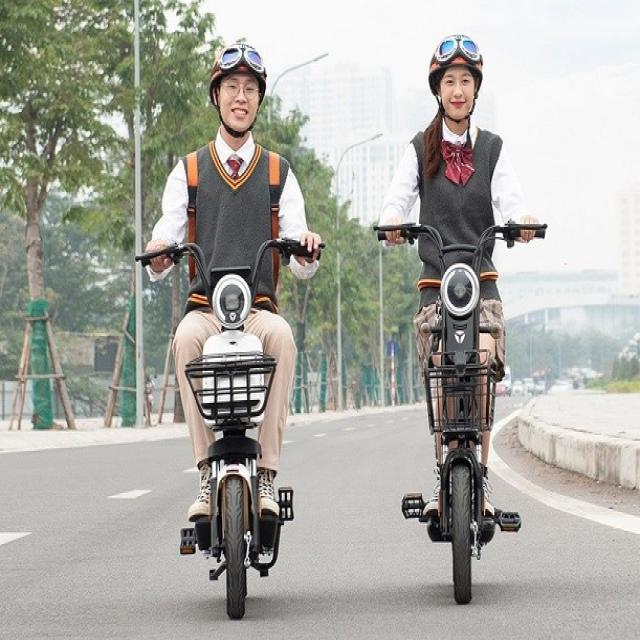1-2-helmet: (210, 42, 266, 92), (429, 34, 483, 82)
